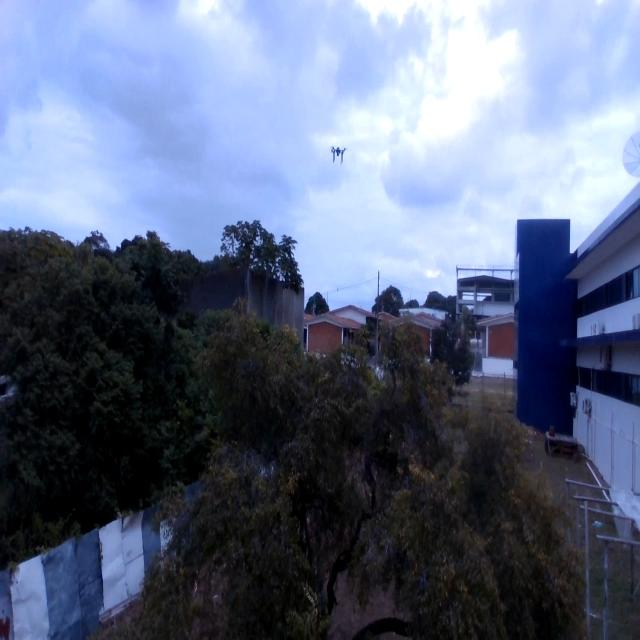-uav-: (327, 132, 350, 172)
